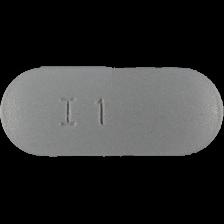0781-5385: (0, 0, 224, 224)
